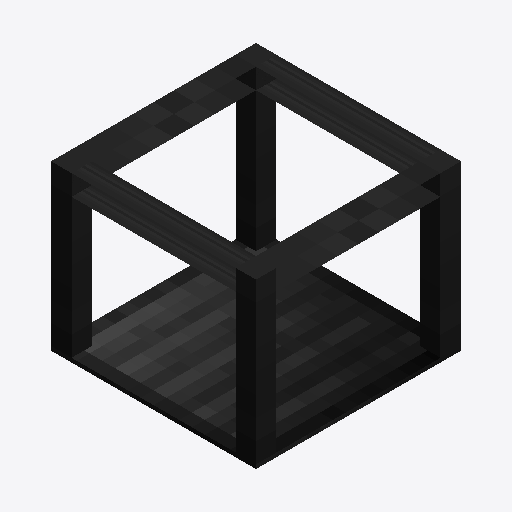
Isometric view (azimuth 45°, elevation 35.3°) of a Minecraft model made of 9 cuboids, textured from the same repository.
Visible parts, largest first — element 1, element 4, element 5, element 8, element 2, element 7, element 6, element 9, element 3.
Boxes of the visible parts, x1=… form: element 1: x1=51, y1=239, x2=460, y2=468; element 4: x1=236, y1=256, x2=275, y2=463; element 5: x1=420, y1=149, x2=460, y2=357; element 8: x1=72, y1=162, x2=254, y2=291; element 2: x1=51, y1=149, x2=91, y2=357; element 7: x1=257, y1=162, x2=439, y2=291; element 6: x1=72, y1=55, x2=255, y2=172; element 9: x1=256, y1=55, x2=439, y2=172; element 3: x1=236, y1=43, x2=275, y2=250.
Bounding box in the file's own units: 10 × 8 × 10.